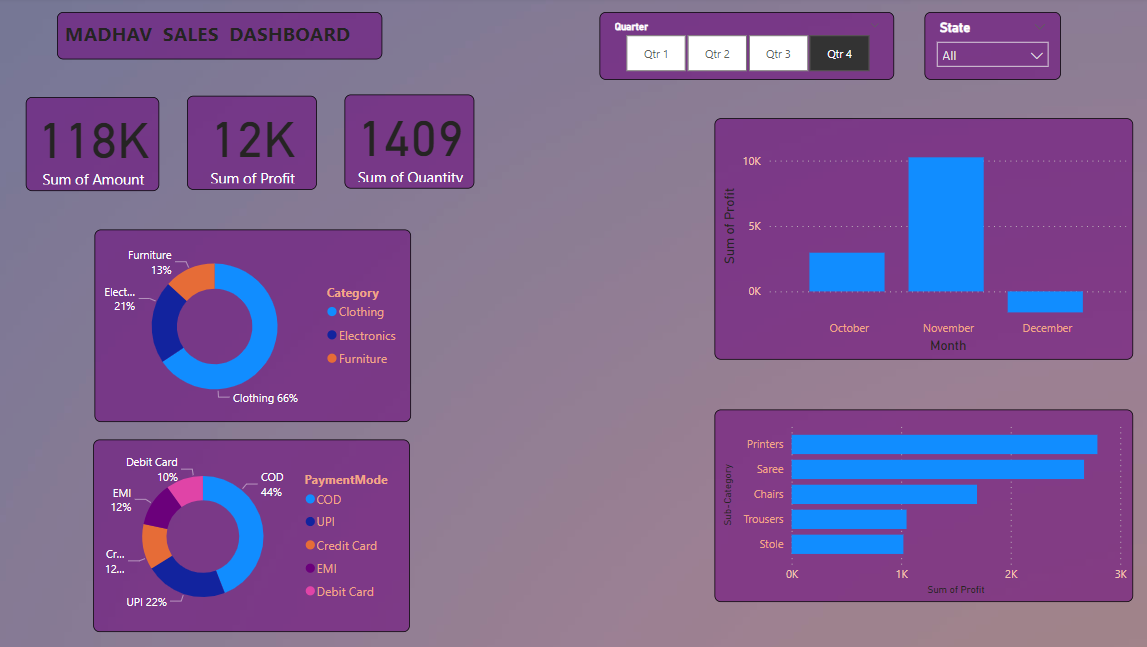

The dashboard page shown, as its layout file describes it:
{"tool":"powerbi","page":{"name":"Page 1","canvas":[1280,720],"ordinal":0},"visuals":[{"type":"textbox","box":[71.3,16.5,356.5,52.1],"z":0},{"type":"columnChart","fields":{"Category":["Orders.Order Date.Variation.Date Hierarchy.Month"],"Y":["Details.Profit"]},"box":[792.5,133,459.3,264.6],"z":1000},{"type":"barChart","fields":{"Category":["Details.Sub-Category"],"Y":["Details.Profit"]},"box":[792.5,452.4,459.3,211.1],"z":2000},{"type":"card","fields":{"Values":["Details.Amount"]},"box":[37,109.7,146.7,102.8],"z":3000},{"type":"donutChart","fields":{"Y":["Details.Quantity"],"Category":["Details.PaymentMode"]},"box":[111.1,485.4,346.9,211.1],"z":4000},{"type":"card","fields":{"Values":["Details.Profit"]},"box":[213.9,108.3,142.6,102.8],"z":5000},{"type":"card","fields":{"Values":["Details.Quantity"]},"box":[386.6,106.9,142.6,102.8],"z":6000},{"type":"donutChart","fields":{"Y":["Details.Quantity"],"Category":["Details.Category"]},"box":[112.4,255,346.9,211.1],"z":7000},{"type":"slicer","fields":{"Values":["Orders.Order Date.Variation.Date Hierarchy.Quarter"]},"box":[666.3,16.5,323.6,74],"z":8000},{"type":"slicer","fields":{"Values":["Orders.State"]},"box":[1022.8,16.5,149.4,74],"z":9000}]}

Visuals, with their boxes in screenshot pixels (x1, y1, x2, y2), scaled from the page's 1280x720 canvas onto the 1147x647 screenshot:
textbox: bbox=(64, 15, 383, 62)
columnChart - Orders.Order Date.Variation.Date Hierarchy.Month x Details.Profit: bbox=(710, 120, 1122, 357)
barChart - Details.Sub-Category x Details.Profit: bbox=(710, 407, 1122, 596)
card - Details.Amount: bbox=(33, 99, 165, 191)
donutChart - Details.Quantity x Details.PaymentMode: bbox=(100, 436, 410, 626)
card - Details.Profit: bbox=(192, 97, 319, 190)
card - Details.Quantity: bbox=(346, 96, 474, 188)
donutChart - Details.Quantity x Details.Category: bbox=(101, 229, 412, 419)
slicer - Orders.Order Date.Variation.Date Hierarchy.Quarter: bbox=(597, 15, 887, 81)
slicer - Orders.State: bbox=(917, 15, 1050, 81)
